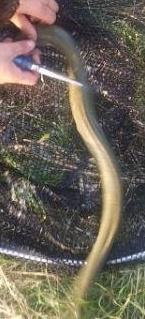Anguilla anguilla: (20, 20, 125, 319)
